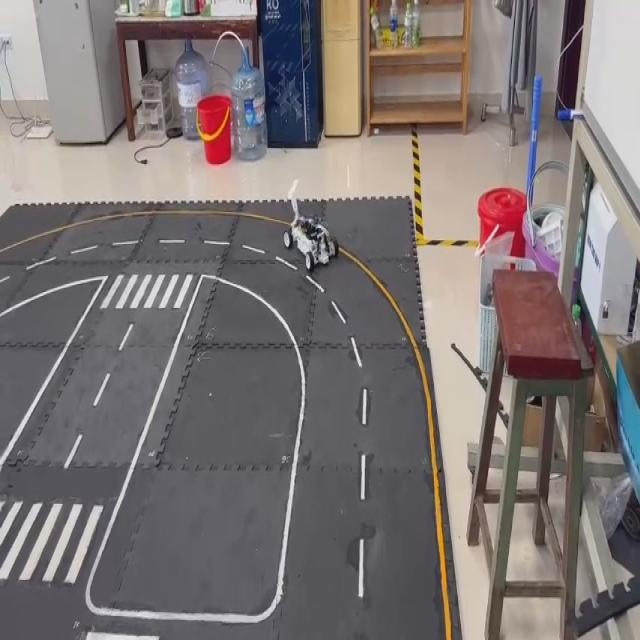SiCo-CAR: (282, 177, 339, 272)
